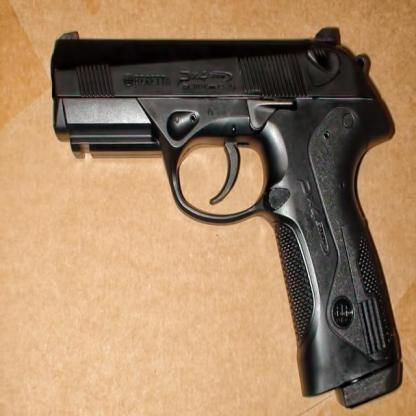weapon: (49, 26, 405, 409)
